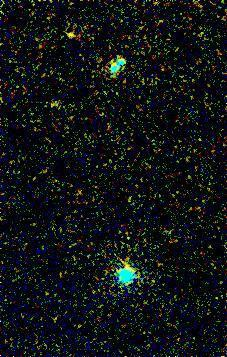star: (59, 21, 89, 51)
